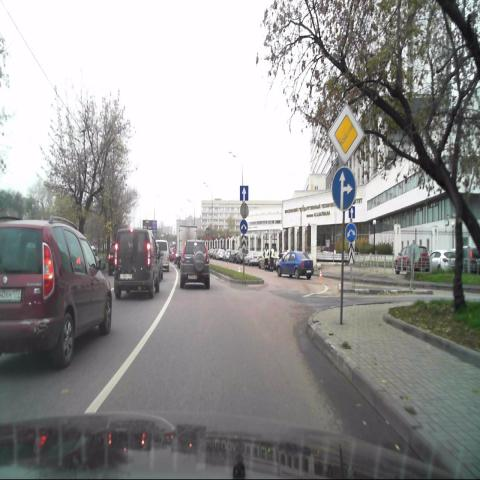2_2: (327, 103, 365, 166)
